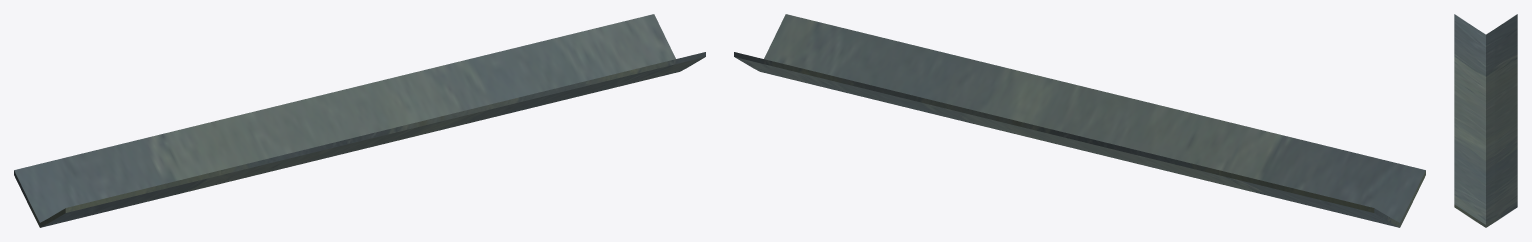
Rendered from CM_SlateRoofKit01_Valley2m_35.fbx.
3 views of the same model, side by side, from view 1: azimuth 30°, elevation 25°; view 2: azimuth 150°, elevation 25°; view 3: azimuth 270°, elevation 25° (orthographic). The views are drawn at different scales.
Visible parts, largest first — view 1: CM_SlateRoofKit01_Valley2m_35_Slate; view 2: CM_SlateRoofKit01_Valley2m_35_Slate; view 3: CM_SlateRoofKit01_Valley2m_35_Slate.
Part boxes in pixels (box(x1,y1,x2,y2)): CM_SlateRoofKit01_Valley2m_35_Slate: box(14, 14, 705, 227); CM_SlateRoofKit01_Valley2m_35_Slate: box(734, 14, 1425, 227); CM_SlateRoofKit01_Valley2m_35_Slate: box(1454, 14, 1517, 227).
Bounding box in the file's own units: 2 × 0.116 × 0.28.
